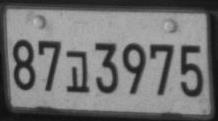3: (93, 42, 119, 94)
5: (179, 44, 204, 97)
7: (149, 43, 175, 95), (37, 40, 62, 92)
8: (12, 38, 36, 91)
9: (121, 42, 147, 94)
고: (65, 49, 90, 92)
